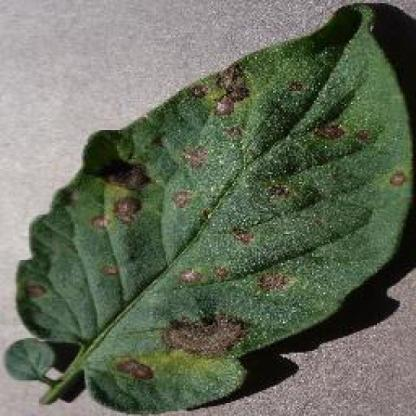Tomato_Blight: (6, 7, 410, 411)
